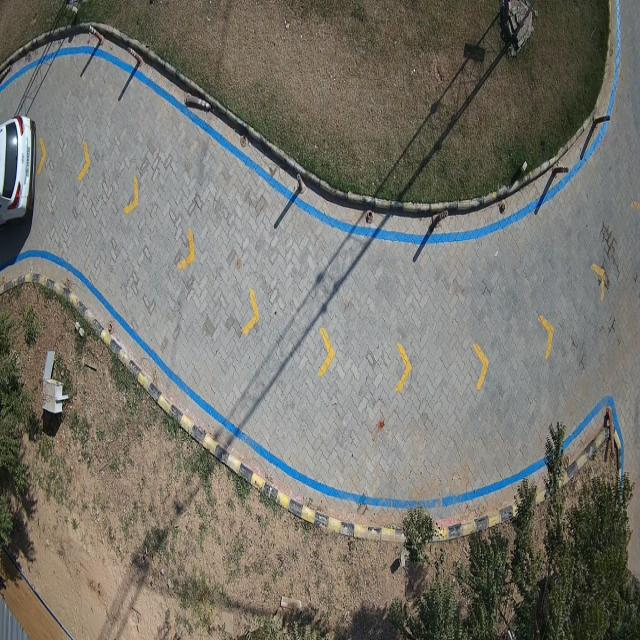car: (0, 116, 36, 223)
